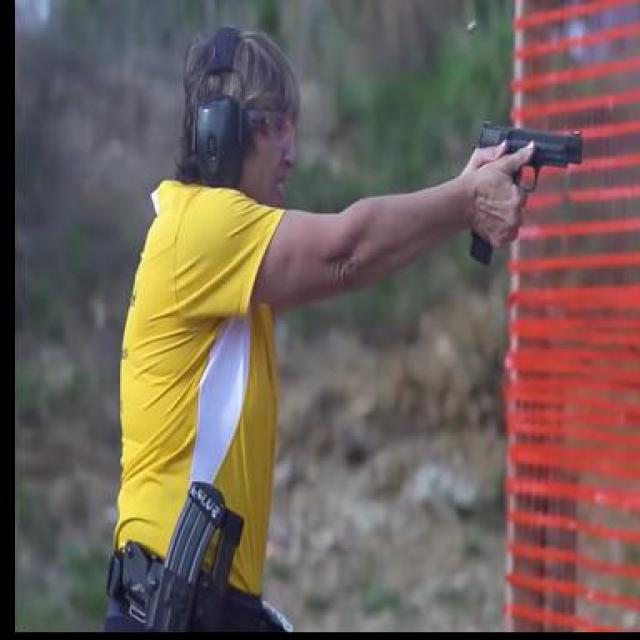Gun: (463, 120, 590, 262)
